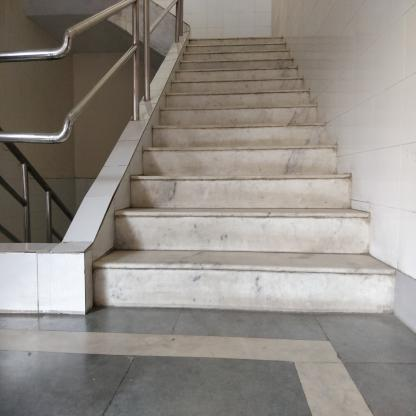stairs: (173, 74, 301, 319)
